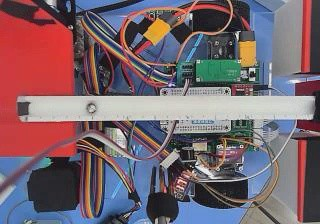ironball: (85, 101, 99, 114)
